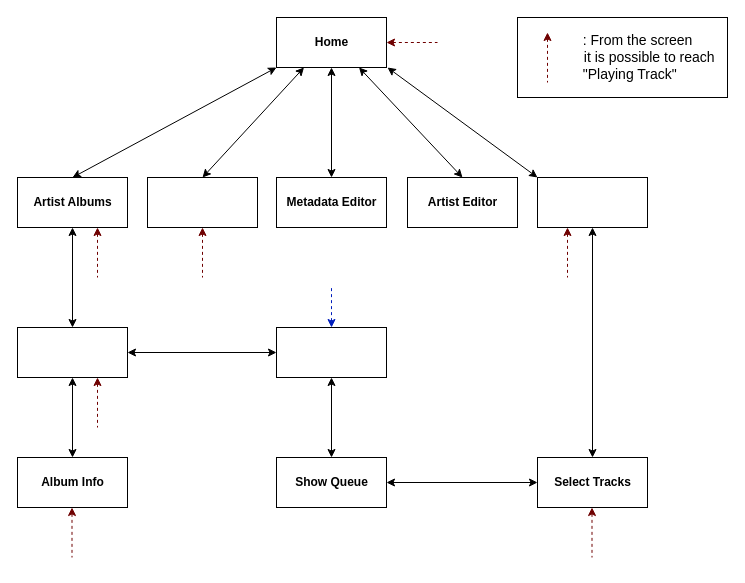
This 745x583 diagram has some shape labels left out. The shapes that lost their labels are listed below. From the top down, each one's box as (x1, y1, x2, y2) in pixels, then its label:
(146, 176, 258, 228): Album Tracks
(536, 176, 648, 228): Show Playlist
(16, 326, 128, 378): Artist Info
(276, 326, 386, 378): Playing Track
